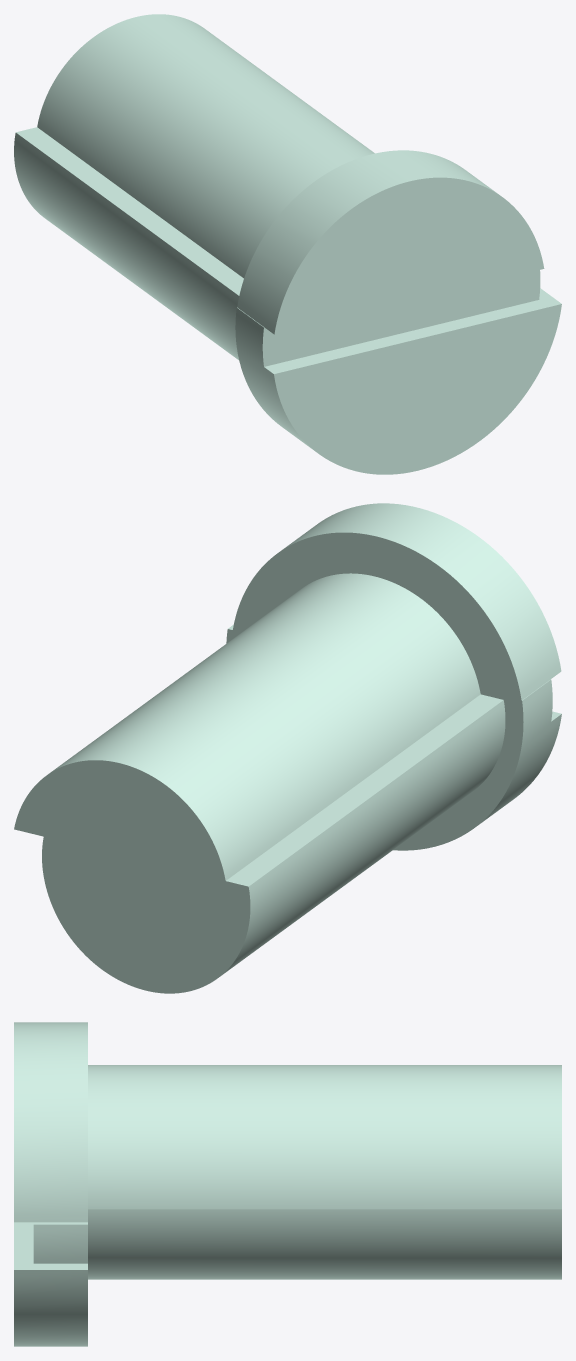
3 renders of one model, top to bottom at view 1: azimuth 30°, elevation 25°; view 2: azimuth 150°, elevation 25°; view 3: azimuth 270°, elevation 25°, orthographic. The views are drawn at different scales.
Visible parts, largest first — view 1: Renderer Node; view 2: Renderer Node; view 3: Renderer Node.
Part boxes in pixels (<box>): Renderer Node: <box>14,14,561,474</box>; Renderer Node: <box>14,503,561,993</box>; Renderer Node: <box>14,1022,561,1346</box>.
Bounding box in the file's own units: 0.5258 × 0.5059 × 0.8672.
